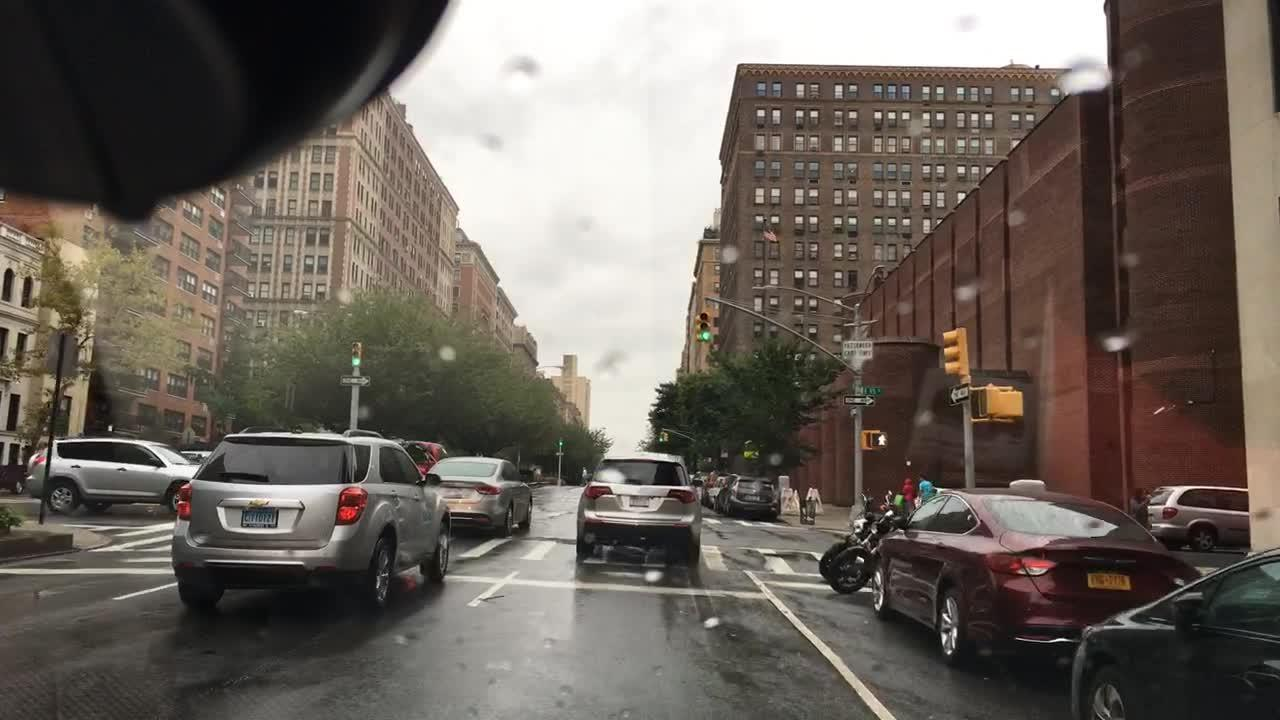chevrolet: (249, 497, 270, 507)
no class: (1083, 554, 1139, 565)
